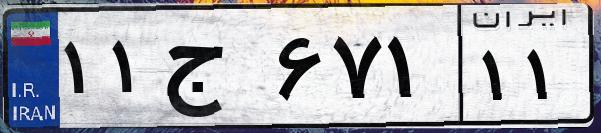1: (385, 28, 445, 110), (57, 26, 110, 100), (475, 38, 525, 113), (525, 38, 570, 115), (110, 28, 158, 98)
6: (270, 28, 330, 110)
7: (330, 28, 385, 110)
ج: (158, 20, 270, 120)
